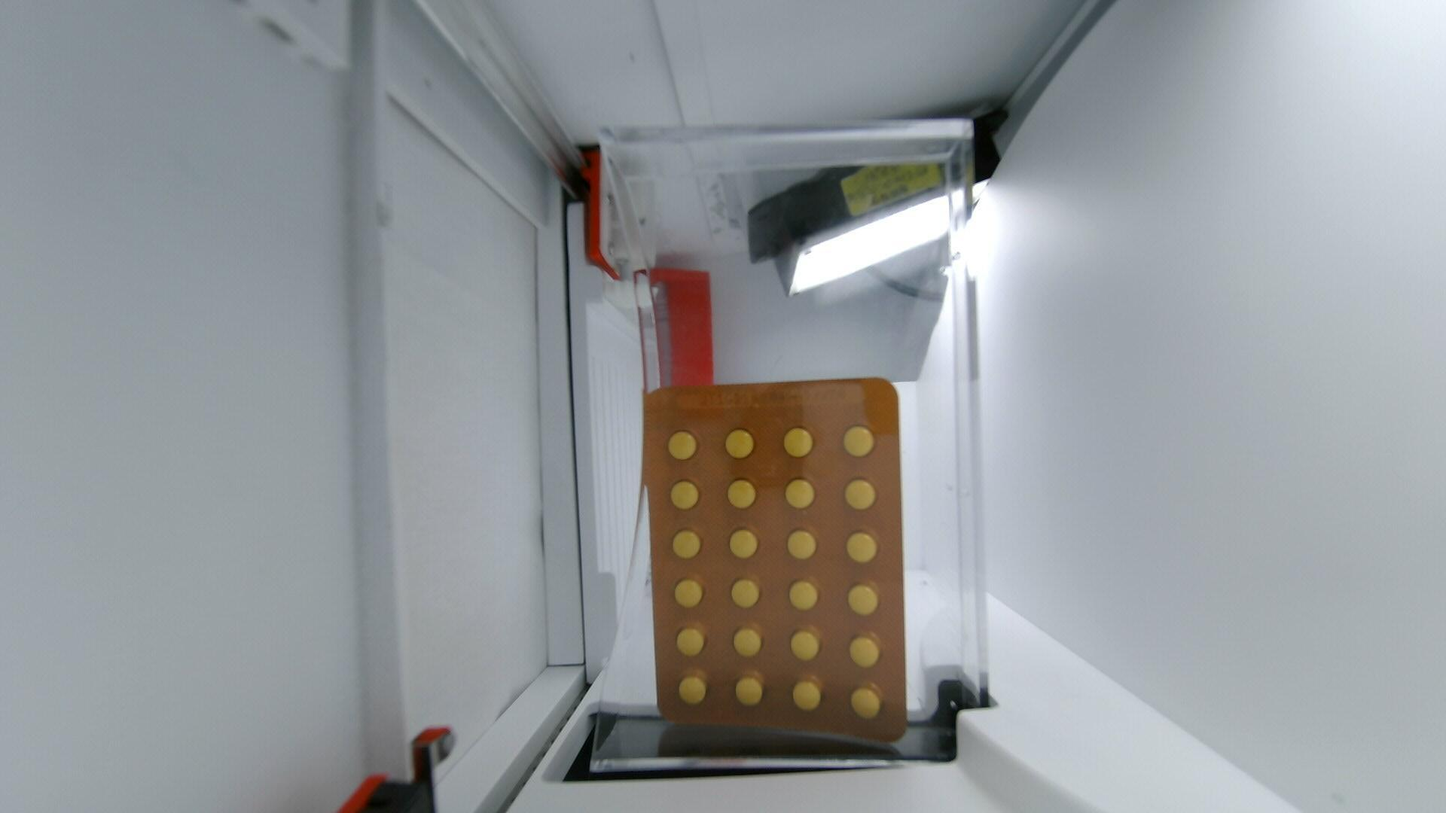Light Front: (642, 378, 906, 743)
Pill Front: (790, 676, 823, 720), (851, 684, 889, 720), (784, 428, 822, 456), (735, 672, 764, 707), (843, 425, 875, 456), (847, 532, 877, 563), (790, 629, 819, 661), (676, 628, 709, 656), (785, 479, 815, 509), (731, 578, 761, 608), (845, 480, 876, 509), (668, 430, 697, 460), (727, 479, 756, 509), (850, 637, 879, 667), (729, 529, 758, 558), (674, 579, 703, 608), (849, 586, 878, 615), (788, 530, 816, 559), (679, 675, 706, 705), (725, 430, 753, 458), (791, 581, 817, 610), (673, 531, 700, 558), (673, 482, 697, 509), (736, 630, 758, 653)
